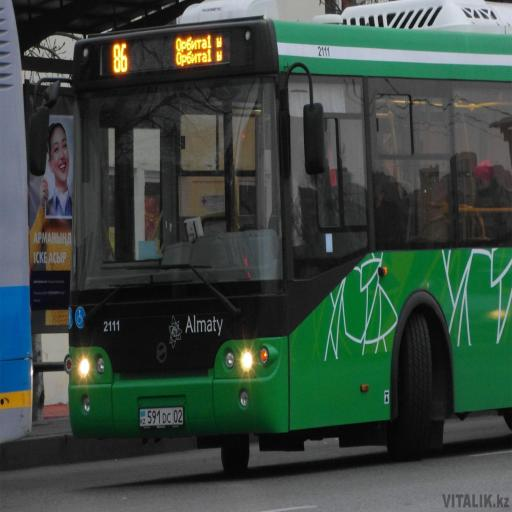bicycle: (12, 0, 199, 419)
